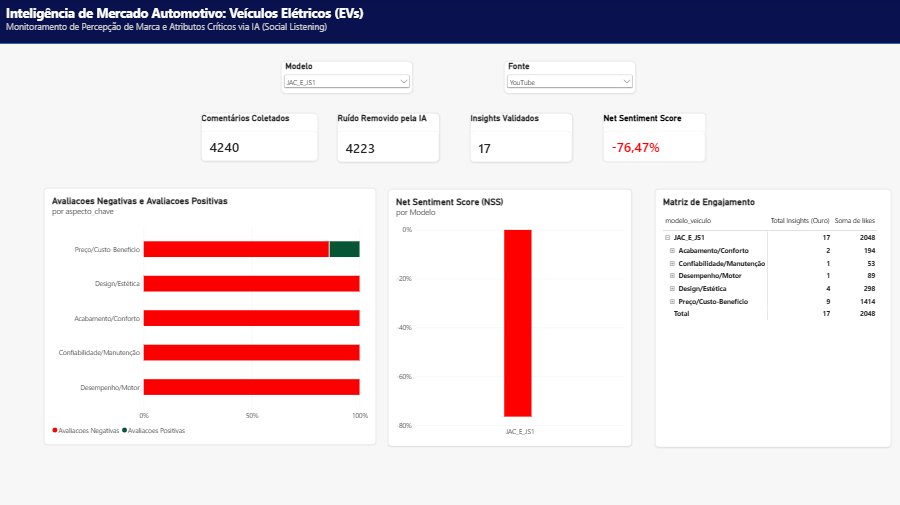

The dashboard page shown, as its layout file describes it:
{"tool":"powerbi","page":{"name":"Página 1","canvas":[1920,1080],"ordinal":0},"visuals":[{"type":"shape","box":[0,0,1920,95],"z":0},{"type":"slicer","fields":{"Values":["dModelo.Modelo"]},"box":[25,111,280,68.6],"z":1000},{"type":"slicer","fields":{"Values":["dFonte.Fonte"]},"box":[376,111,280,68.6],"z":2000},{"type":"cardVisual","title":"Comentários Coletados","fields":{"Data":["_Medidas.Total Volume Bruto"]},"box":[48.9,282.8,249.4,103.3],"z":2001},{"type":"cardVisual","title":"Ruído Removido pela IA","fields":{"Data":["_Medidas.Ruido Descartado"]},"box":[355,282.8,217.5,105],"z":2002},{"type":"cardVisual","title":"Insights Validados","fields":{"Data":["_Medidas.Total Insights (Ouro)"]},"box":[633.5,282.8,217.5,105],"z":2003},{"type":"cardVisual","title":"Net Sentiment Score","fields":{"Data":["_Medidas.Net Sentiment Score (NSS)"]},"box":[916.3,282.8,219,104.2],"z":2004},{"type":"donutChart","fields":{"Y":["_Medidas.Ruido Descartado","_Medidas.Total Insights (Ouro)"]},"box":[48.9,433.7,496.4,340.2],"z":2005},{"type":"hundredPercentStackedBarChart","fields":{"Category":["fAvaliacoes.aspecto_chave"],"Y":["_Medidas.Avaliacoes Negativas","_Medidas.Avaliacoes Positivas"]},"box":[608,433.7,705.5,370.4],"z":2006},{"type":"pivotTable","fields":{"Rows":["fAvaliacoes.modelo_veiculo","fAvaliacoes.aspecto_chave","fAvaliacoes.resumo_insight"],"Values":["Sum(fAvaliacoes.likes)"]},"box":[95.7,803.6,297.6,233.9],"z":2008},{"type":"clusteredColumnChart","fields":{"Category":["dModelo.Modelo"],"Y":["_Medidas.Net Sentiment Score (NSS)"]},"box":[1362.8,433.7,518.7,646.3],"z":2009}]}

Visuals, with their boxes in screenshot pixels (x1, y1, x2, y2), scaled from the page's 1920x1080 canvas onto the 900x505 screenshot:
shape: rect(0, 0, 899, 44)
slicer - dModelo.Modelo: rect(12, 52, 143, 84)
slicer - dFonte.Fonte: rect(176, 52, 308, 84)
"Comentários Coletados" cardVisual: rect(23, 132, 140, 181)
"Ruído Removido pela IA" cardVisual: rect(166, 132, 268, 181)
"Insights Validados" cardVisual: rect(297, 132, 399, 181)
"Net Sentiment Score" cardVisual: rect(430, 132, 532, 181)
donutChart - _Medidas.Ruido Descartado x _Medidas.Total Insights (Ouro): rect(23, 203, 256, 362)
hundredPercentStackedBarChart - fAvaliacoes.aspecto_chave x _Medidas.Avaliacoes Negativas: rect(285, 203, 616, 376)
pivotTable - fAvaliacoes.modelo_veiculo x fAvaliacoes.aspecto_chave: rect(45, 376, 184, 485)
clusteredColumnChart - dModelo.Modelo x _Medidas.Net Sentiment Score (NSS): rect(639, 203, 882, 504)
